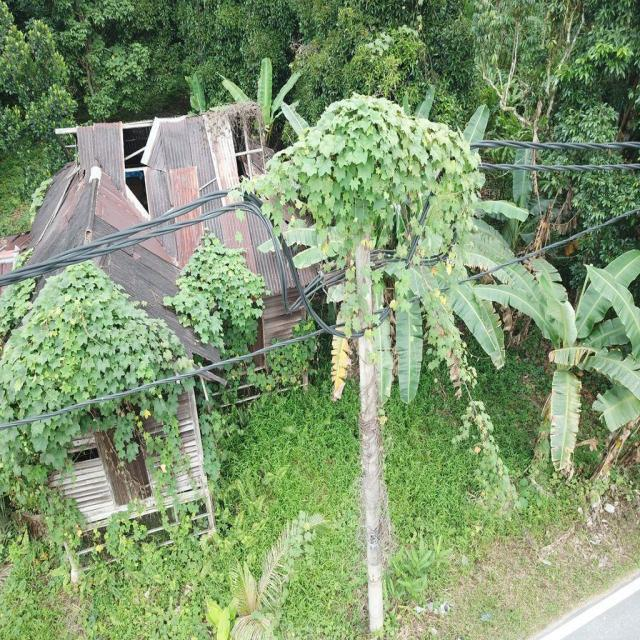critical vegetation: (228, 84, 492, 284), (424, 305, 526, 511), (346, 302, 399, 598)
